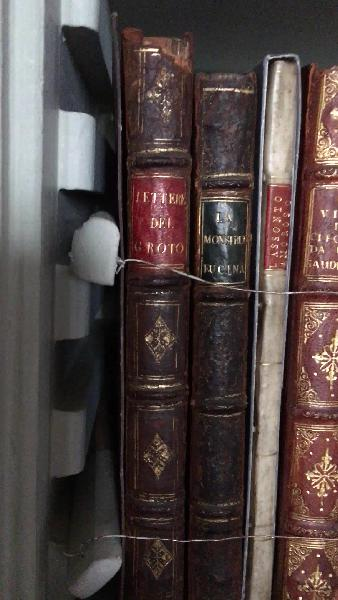Aa6-1: (110, 22, 199, 600)
Aa6-2: (189, 58, 258, 600)
Aa6-3: (241, 31, 308, 600)
Aa6-4: (264, 35, 338, 600)
